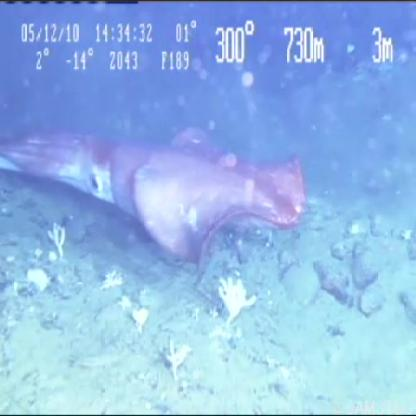Bio: (1, 122, 310, 272), (213, 274, 259, 334), (163, 336, 195, 384), (46, 220, 69, 264)
